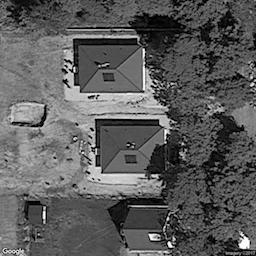roofs: (101, 126, 165, 173), (80, 45, 143, 92), (122, 209, 170, 250), (28, 205, 43, 223)
